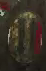Two way: (5, 9, 44, 68)
